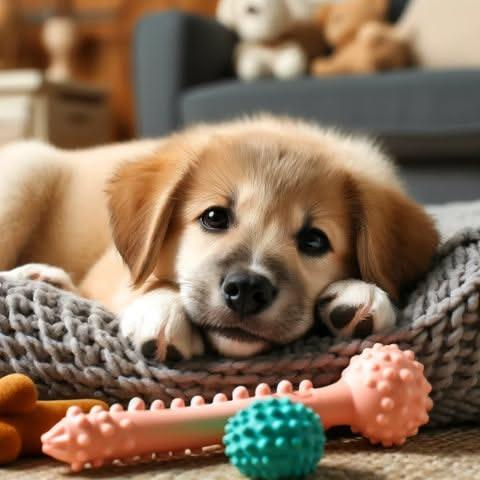puppy-dog: (0, 113, 439, 368)
